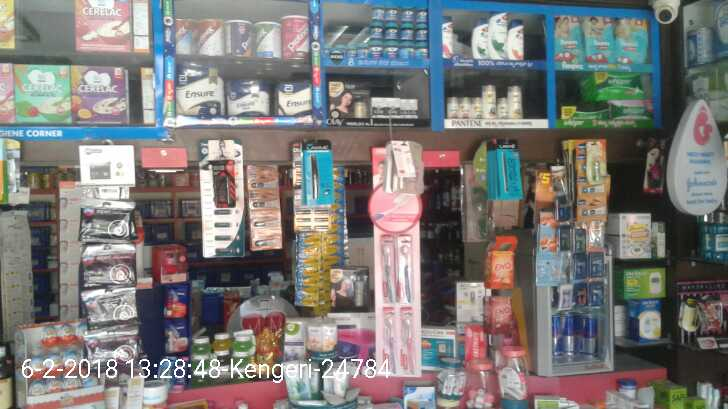beauty: (508, 18, 526, 60), (472, 17, 489, 59), (482, 83, 497, 120), (509, 84, 525, 118), (384, 95, 402, 118), (446, 94, 459, 120), (470, 95, 483, 120), (402, 99, 419, 118), (458, 94, 470, 120), (496, 95, 508, 118), (372, 95, 384, 118)
pharmacy: (580, 11, 616, 64), (581, 71, 653, 97), (552, 13, 584, 61), (616, 18, 649, 62), (609, 97, 652, 120), (382, 23, 401, 40), (399, 41, 416, 58), (384, 39, 398, 59), (400, 4, 414, 22), (415, 4, 429, 22), (415, 22, 428, 41), (370, 2, 383, 20), (384, 4, 396, 23), (370, 21, 382, 40), (416, 41, 427, 59), (370, 42, 383, 57), (401, 24, 413, 40)
